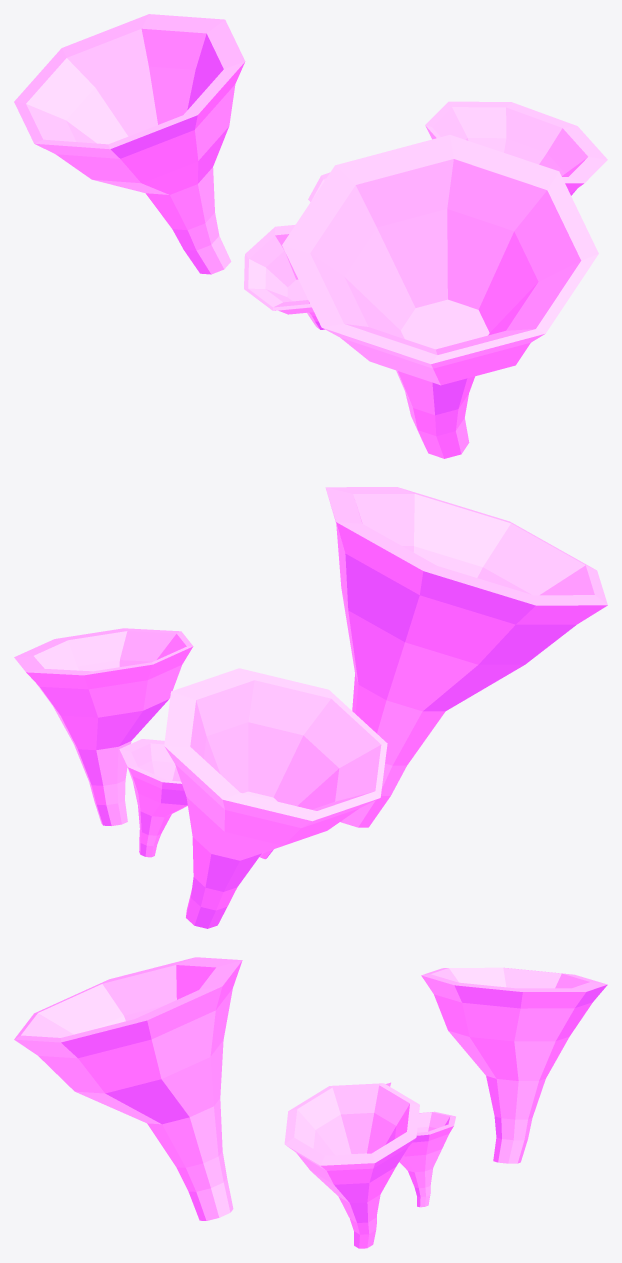
The model's file is triplechampi.fbx.
3 views of the same model, one above another, from view 1: azimuth 30°, elevation 25°; view 2: azimuth 150°, elevation 25°; view 3: azimuth 270°, elevation 25° (orthographic). The views are drawn at different scales.
Parts seen in each view (by area): view 1: Circle.003, Circle.001, Circle.004, Circle.005; view 2: Circle.003, Circle.001, Circle.004, Circle.002; view 3: Circle.003, Circle.001, Circle.004, Circle.002.
Boxes of the visible parts, x1,y1,x2,y2 form: Circle.003: (282,135,598,458); Circle.001: (14,14,245,274); Circle.004: (425,101,607,195); Circle.005: (244,224,324,329); Circle.003: (325,487,607,827); Circle.001: (164,668,387,928); Circle.004: (14,628,193,825); Circle.002: (119,739,187,857); Circle.003: (14,957,242,1220); Circle.001: (421,967,607,1163); Circle.004: (284,1083,419,1248); Circle.002: (399,1111,455,1207).
Bounding box in the file's own units: 1138 × 737 × 1670.
